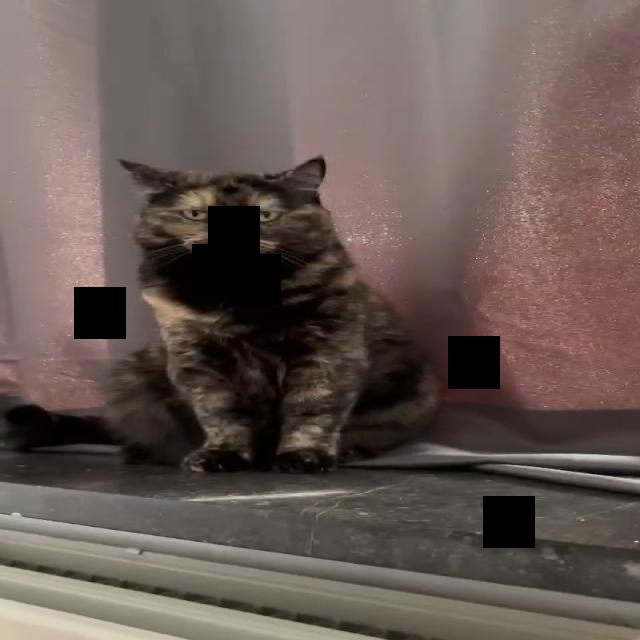authorized: (3, 152, 444, 474)
